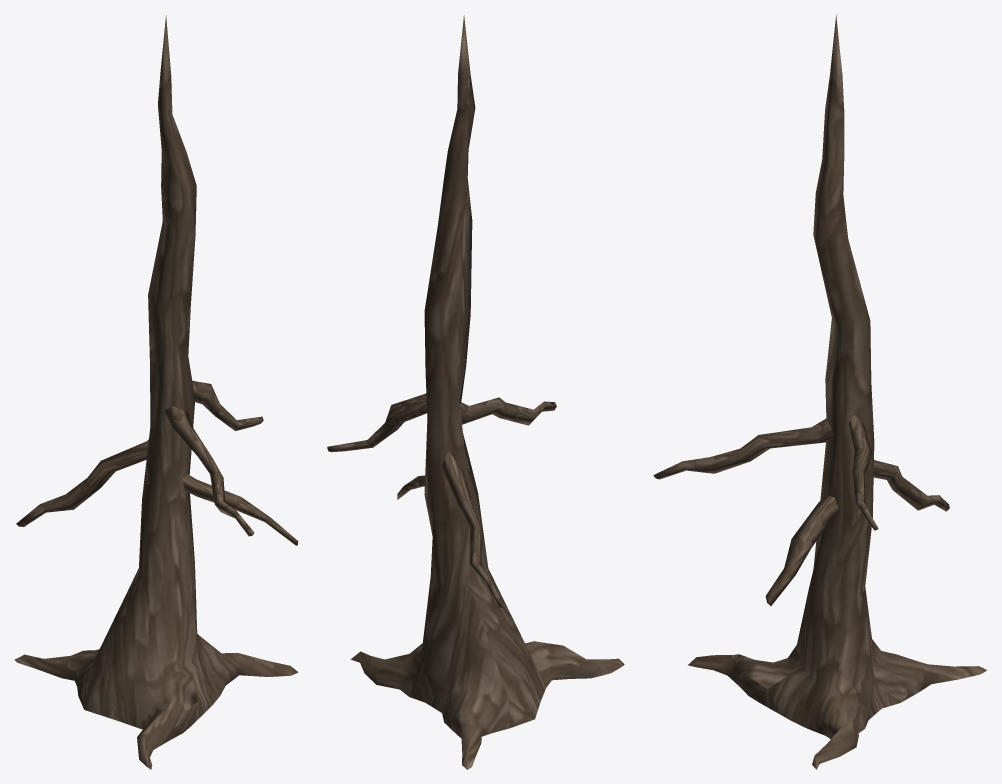
Rendered from shugan.FBX.
3 views of the same model, side by side, from view 1: azimuth 30°, elevation 25°; view 2: azimuth 150°, elevation 25°; view 3: azimuth 270°, elevation 25° (orthographic).
Visible parts, largest first — view 1: Object001; view 2: Object001; view 3: Object001.
Part boxes in pixels (bbox=[...]): Object001: bbox=[14, 15, 298, 769]; Object001: bbox=[327, 15, 624, 769]; Object001: bbox=[653, 14, 987, 769].
Size of the model in its own units: 493 by 1474 by 643.
Materials: 1 (1 with a texture image).
